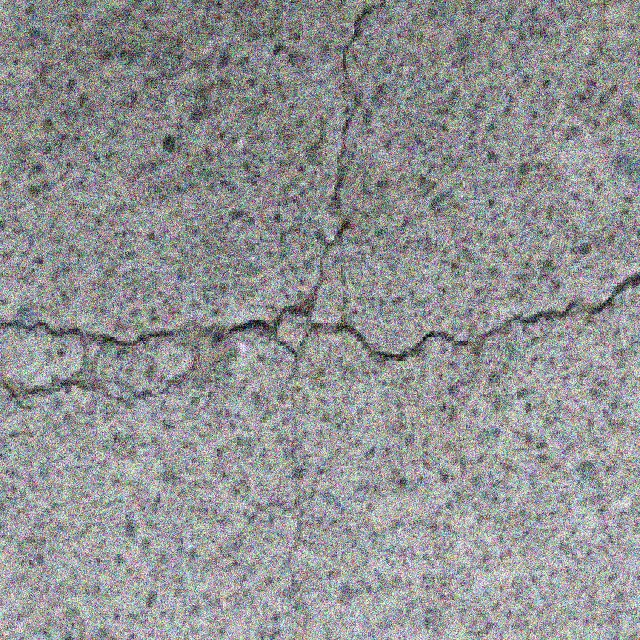SurfaceCrack: (306, 0, 394, 318)
